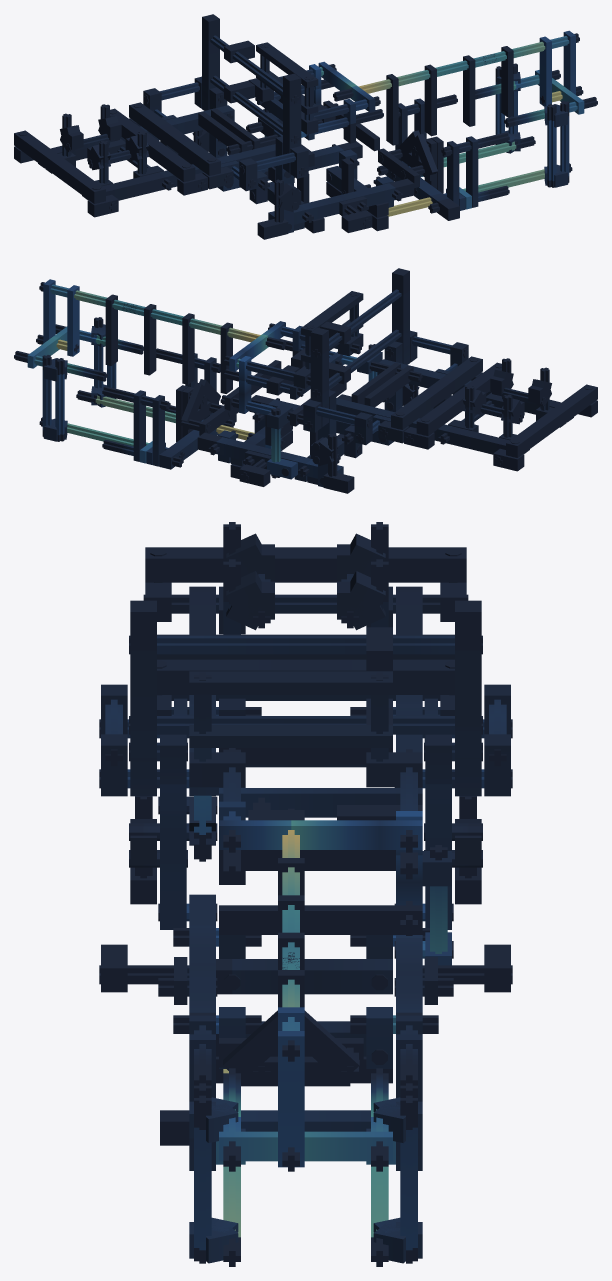
File: letrakeret_a6d_csavaras.glb
3 renders of one model, top to bottom at view 1: azimuth 30°, elevation 25°; view 2: azimuth 150°, elevation 25°; view 3: azimuth 270°, elevation 25°, orthographic. The views are drawn at different scales.
Parts seen in each view (by area): view 1: fem; view 2: fem; view 3: fem.
Boxes of the visible parts, x1=… form: fem: x1=14, y1=14, x2=597, y2=239; fem: x1=14, y1=268, x2=597, y2=493; fem: x1=99, y1=522, x2=512, y2=1266.
Bounding box in the file's own units: 328 × 112 × 112.
